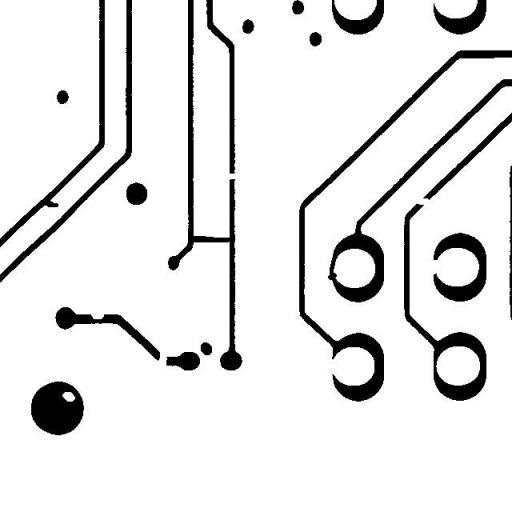copper: (193, 334, 219, 362)
mousebite: (83, 305, 111, 326)
open: (150, 338, 174, 375), (420, 252, 447, 282), (402, 190, 436, 212), (219, 165, 246, 187)
pin-hole: (54, 384, 82, 409)
short: (182, 228, 239, 250), (320, 247, 345, 288)
spur: (34, 193, 66, 214)
